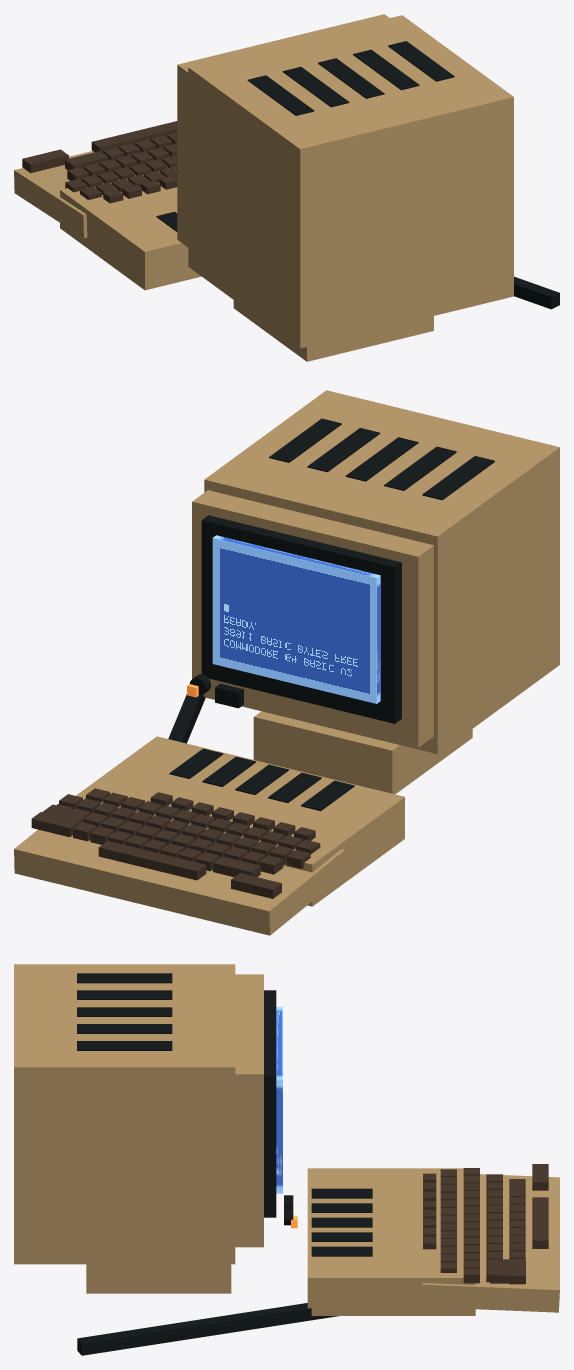
The model's file is c64-computer.glb.
3 views of the same model, one above another, from view 1: azimuth 30°, elevation 25°; view 2: azimuth 150°, elevation 25°; view 3: azimuth 270°, elevation 25° (orthographic). The views are drawn at different scales.
Parts seen in each view (by area): view 1: c64 CRT rear case, c64 computer base, c64 monitor vent slit (×5), c64 CRT face surround, c64 keyboard tray, c64 CRT pedestal, c64 space key, c64 coiled monitor cable, c64 left shift key; view 2: c64 CRT rear case, C64 screen, c64 CRT face surround, c64 computer base, c64 keyboard tray, c64 CRT recessed bezel, c64 CRT pedestal, c64 monitor vent slit (×5), c64 base vent slit (×5), c64 space key, c64 coiled monitor cable, c64 return key (+1 smaller); view 3: c64 CRT rear case, c64 computer base, c64 CRT face surround, c64 keyboard tray, c64 monitor vent slit (×5), c64 coiled monitor cable, c64 CRT pedestal, c64 base vent slit (×5), c64 CRT recessed bezel, C64 screen, c64 space key, c64 return key.
Boxes of the visible parts, x1,y1,x2,y2 form: c64 CRT rear case: [188, 15, 513, 348]; c64 computer base: [60, 167, 201, 290]; c64 monitor vent slit (×5): [247, 41, 454, 115]; c64 CRT face surround: [177, 14, 389, 247]; c64 keyboard tray: [14, 151, 94, 238]; c64 CRT pedestal: [233, 300, 433, 361]; c64 space key: [91, 121, 177, 152]; c64 coiled monitor cable: [514, 276, 559, 309]; c64 left shift key: [22, 149, 68, 173]; c64 CRT rear case: [204, 390, 559, 754]; C64 screen: [212, 535, 380, 703]; c64 CRT face surround: [192, 490, 433, 747]; c64 computer base: [76, 736, 404, 906]; c64 keyboard tray: [14, 829, 345, 935]; c64 CRT recessed bezel: [201, 515, 401, 723]; c64 CRT pedestal: [253, 711, 472, 794]; c64 monitor vent slit (×5): [269, 418, 494, 500]; c64 base vent slit (×5): [169, 748, 354, 811]; c64 space key: [98, 841, 206, 880]; c64 coiled monitor cable: [168, 694, 205, 743]; c64 return key: [32, 804, 89, 836]; c64 CRT rear case: [14, 964, 235, 1264]; c64 computer base: [307, 1168, 475, 1315]; c64 CRT face surround: [235, 974, 263, 1247]; c64 keyboard tray: [421, 1174, 559, 1312]; c64 monitor vent slit (×5): [77, 973, 172, 1050]; c64 coiled monitor cable: [77, 1303, 338, 1355]; c64 CRT pedestal: [86, 1264, 231, 1293]; c64 base vent slit (×5): [311, 1188, 372, 1256]; c64 CRT recessed bezel: [264, 990, 276, 1217]; C64 screen: [276, 1007, 282, 1193]; c64 space key: [532, 1197, 548, 1248]; c64 return key: [490, 1259, 525, 1283].
Size of the model in its own units: 0.9099 by 0.7345 by 1.43.
5 materials, 1 textured.
